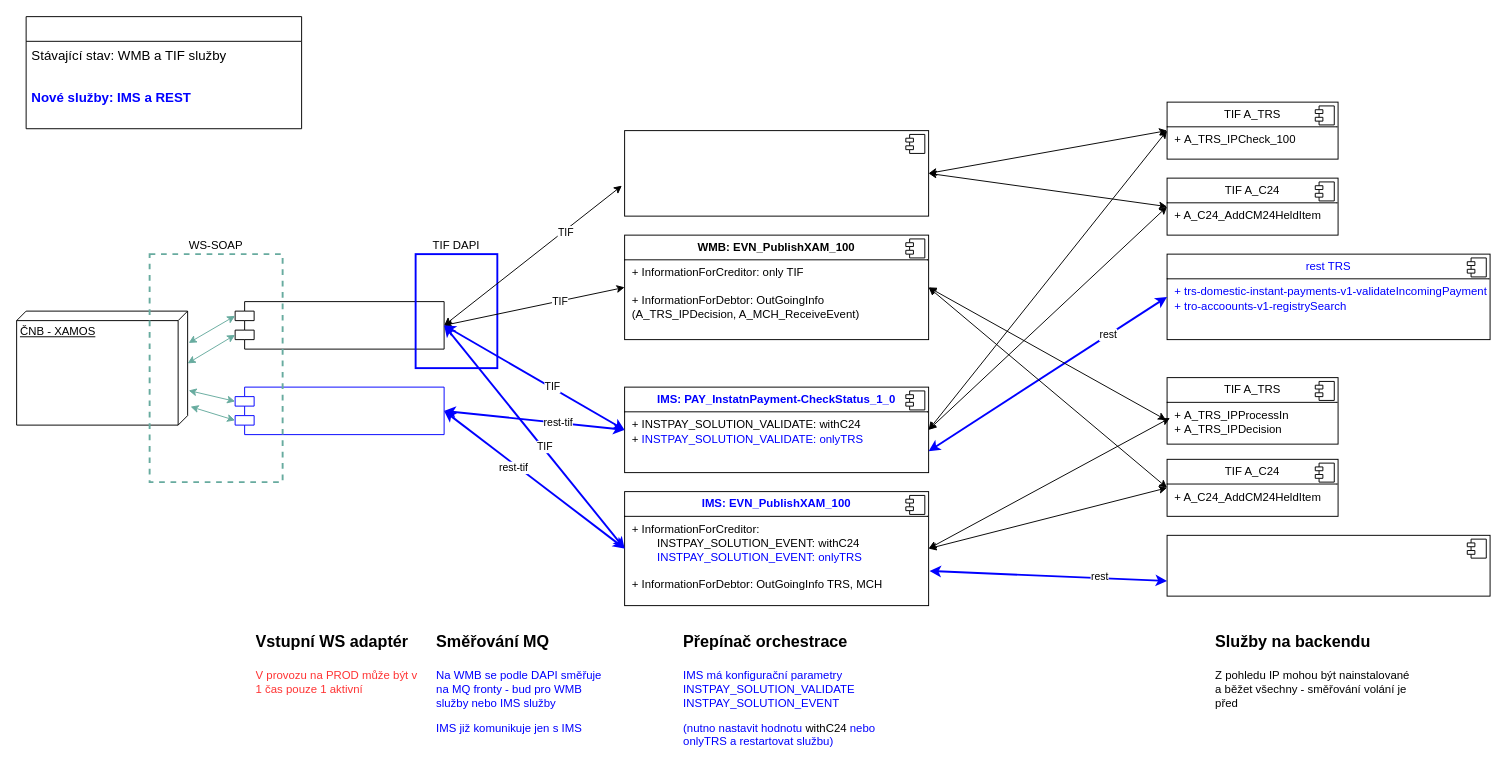
This 1507x777 diagram has some shape labels left out. The shapes that lost their labels are listed below. From the top down, each one's box as (x1, y1, x2, y2) in pixels, then its label:
(25, 16, 302, 129): Příchozí OP - přepínání
(624, 130, 929, 216): WMB: PAY_InstatnPayment-CheckStatus_1_0 + orch: only TIF
(234, 301, 444, 349): XAMOS-WMB adapter
(234, 386, 444, 435): pay-xamos-participant-services-v1
(1166, 534, 1490, 596): rest TRS + trs-domestic-instant-payments-v1-processIncomingPayment
